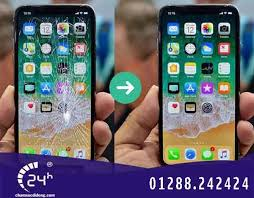iphone: (159, 3, 242, 162), (13, 2, 96, 161)
iphone10: (14, 2, 97, 161), (159, 3, 242, 162)
